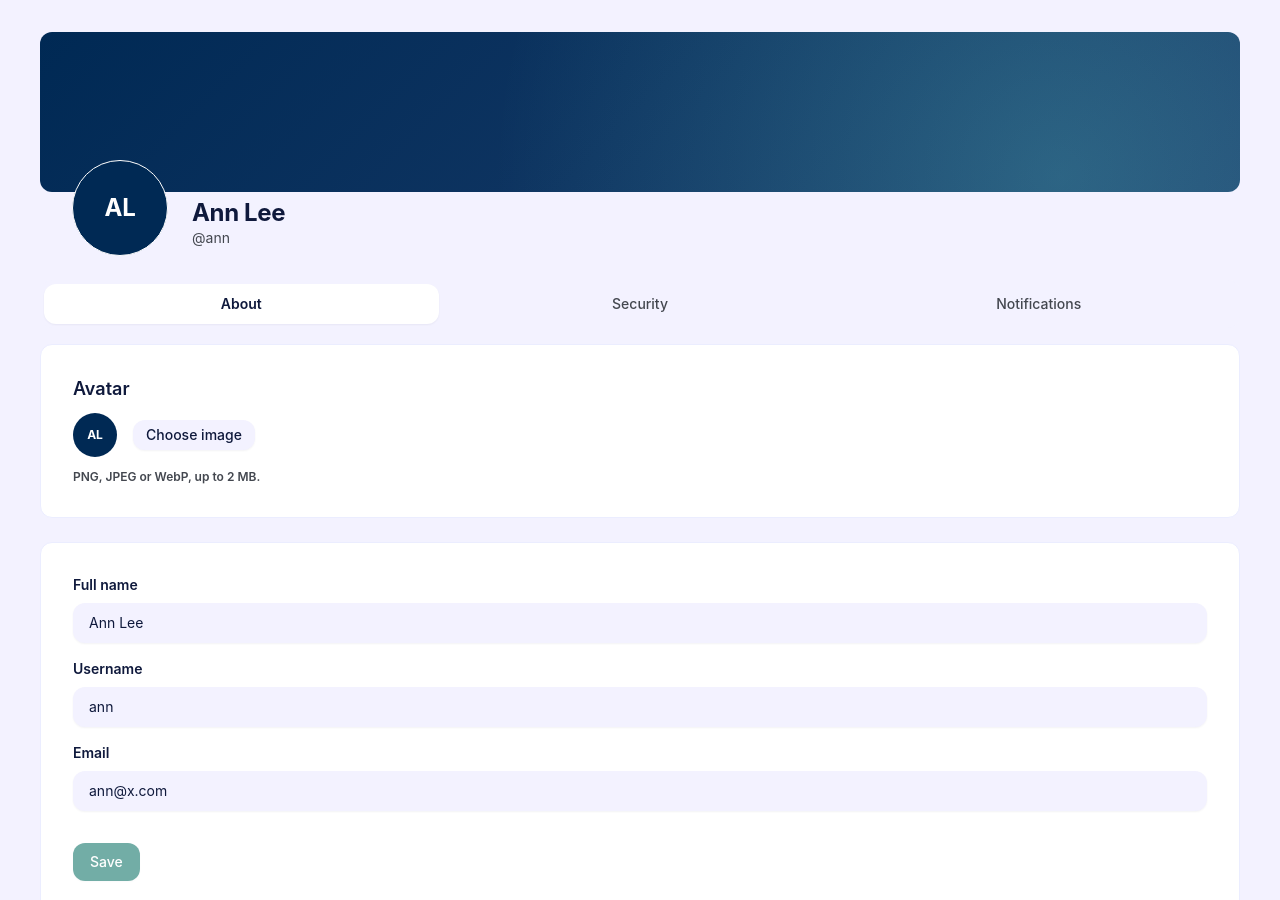
Test: About tab (PRF-02 to PRF-04, PRF-10) › a new email is a request: the page says it is waiting and offers Resend and Cancel
Replace the text in the field labelled "Email" with "new@x.com" at (640, 791), box top-left (73, 771), bottom-right (1207, 811)
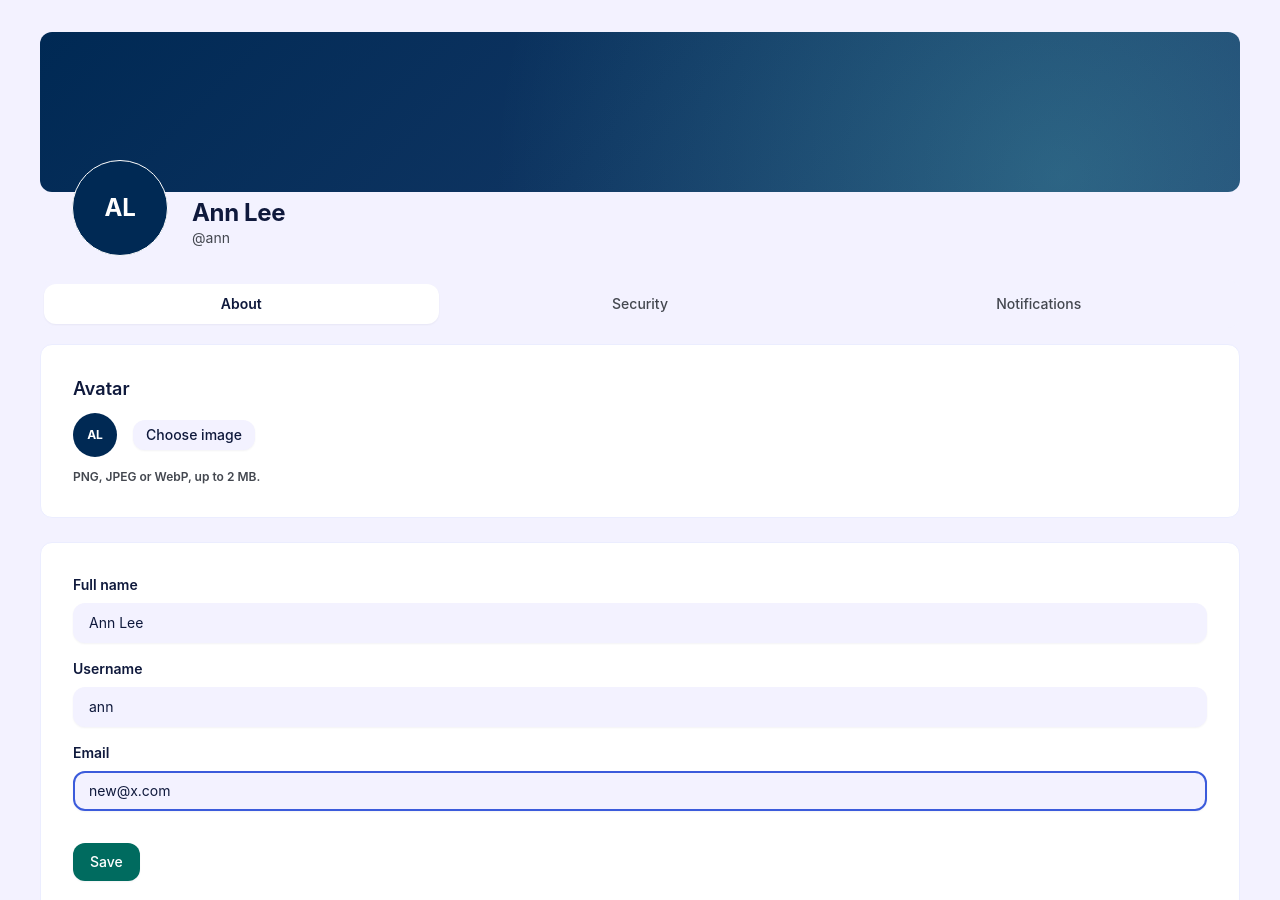
Click the button "Save" at (106, 862), box top-left (73, 843), bottom-right (140, 881)
(page scrolled)
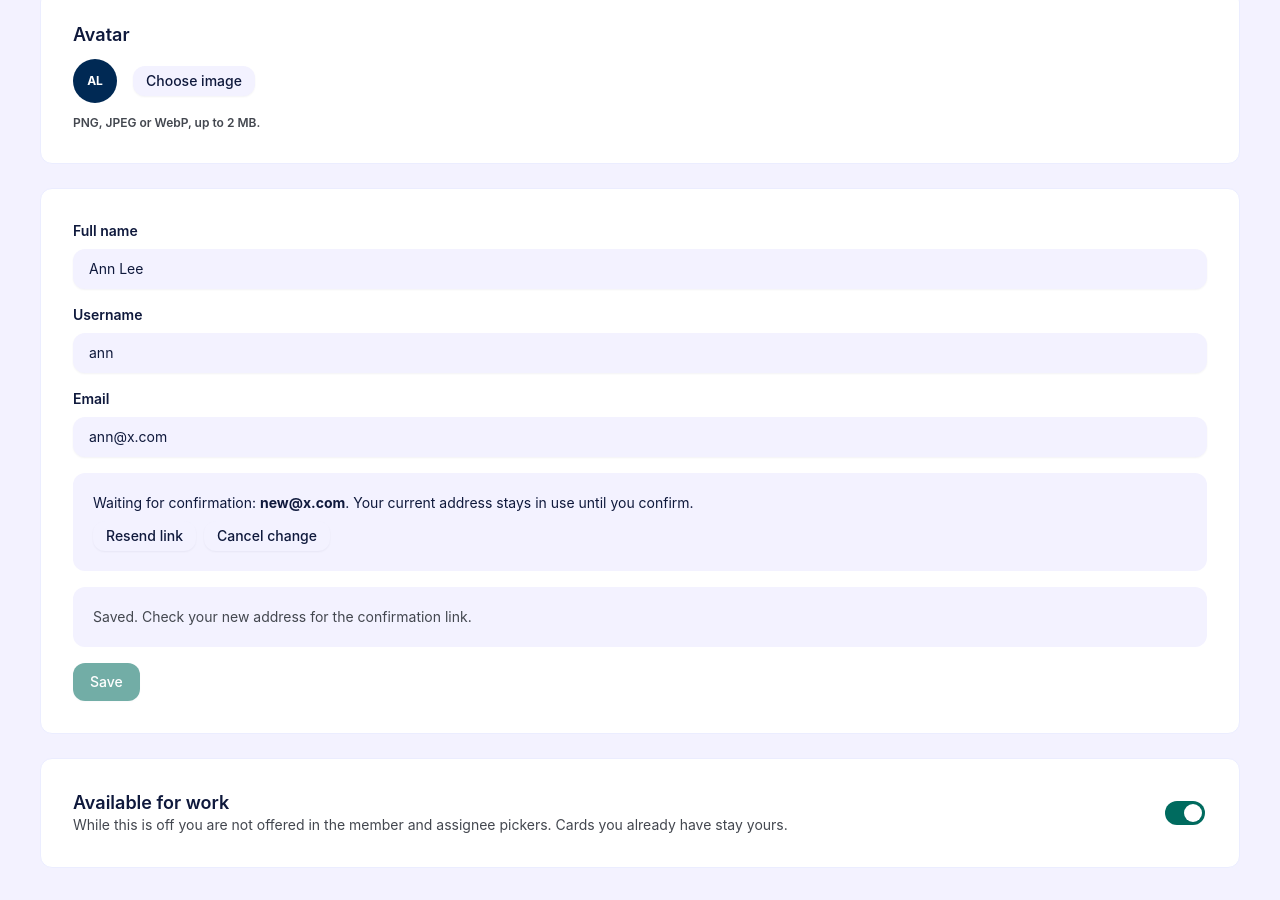
Now the text "Waiting for confirmation" shows "new@x.com", box top-left (260, 494), bottom-right (345, 511)
Now the button "Resend link" is shown, box top-left (93, 521), bottom-right (196, 551)
